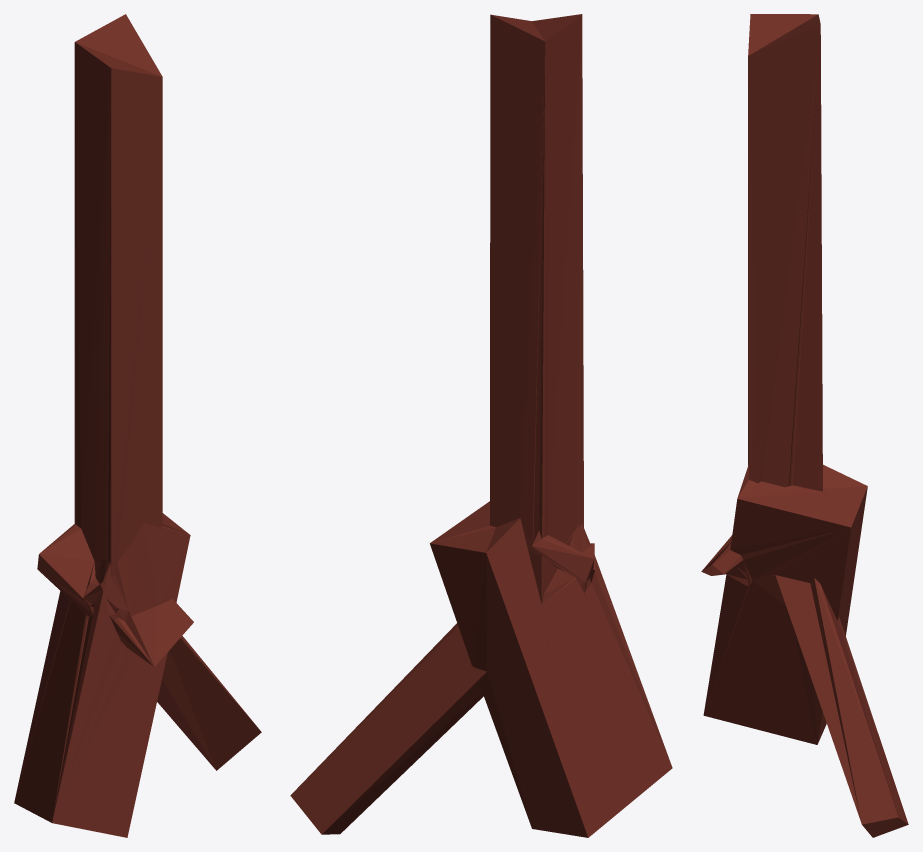
3 renders of one model, left to right at view 1: azimuth 30°, elevation 25°; view 2: azimuth 150°, elevation 25°; view 3: azimuth 270°, elevation 25°, orthographic. The views are drawn at different scales.
Parts seen in each view (by area): view 1: 076_Cube.311; view 2: 076_Cube.311; view 3: 076_Cube.311.
Part boxes in pixels (x1,y1,x2,y2): 076_Cube.311: [14, 14, 261, 837]; 076_Cube.311: [290, 14, 672, 837]; 076_Cube.311: [701, 14, 908, 837].
Size of the model in its own units: 6.25 by 16.99 by 4.21.
